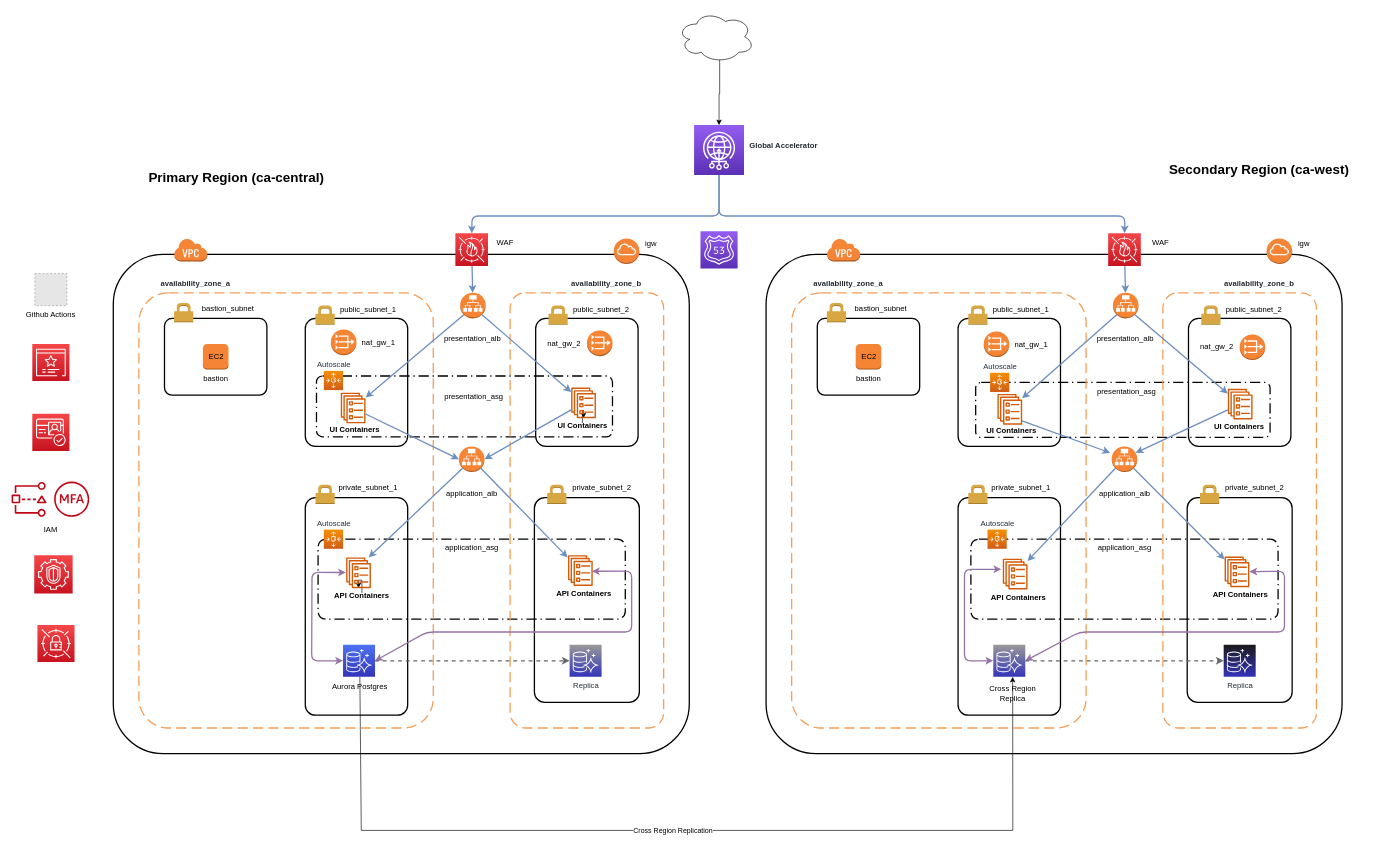
This 1395x847 diagram has some shape labels left out. Grey dashed boxes stand in for pictures. Here are the shapes that lost their labels. From the top down, the centre of each, then its label:
point 50,362: Certificate Manager
point 50,432: IDP
point 53,574: Guard Duty
point 56,643: Secret Manager
